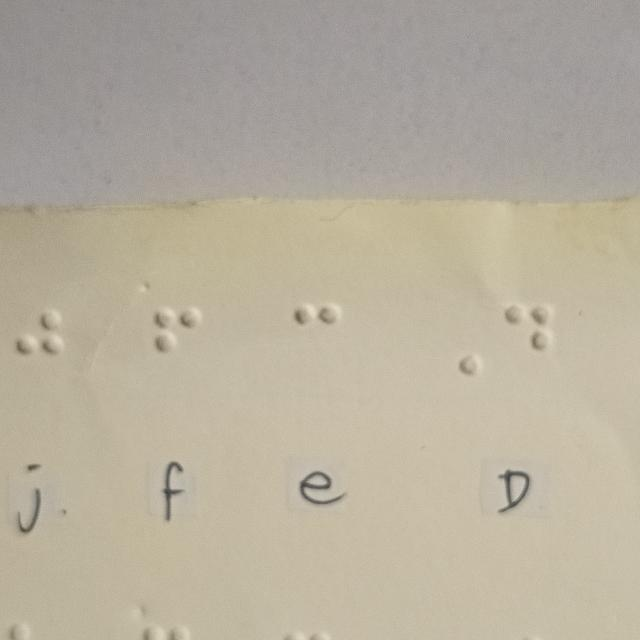D: (500, 302, 554, 387)
capital: (430, 295, 484, 379)
e: (290, 303, 344, 388)
f: (150, 304, 203, 389)
j: (13, 305, 66, 390)
